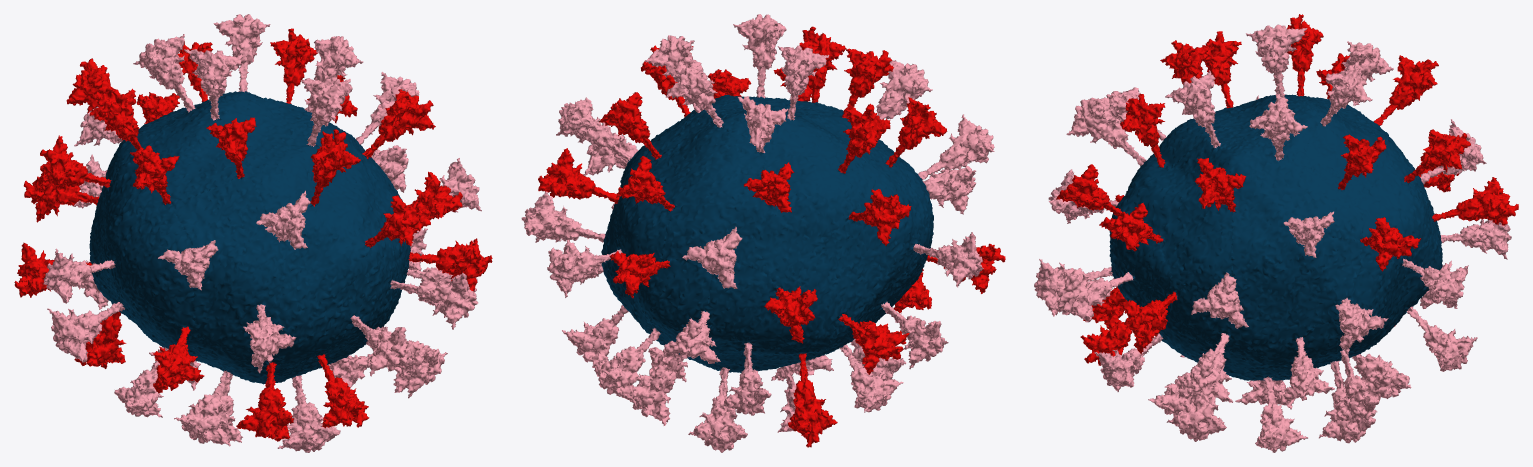
File: sars-cov-2.glb
3 views of the same model, side by side, from view 1: azimuth 30°, elevation 25°; view 2: azimuth 150°, elevation 25°; view 3: azimuth 270°, elevation 25° (orthographic). The views are drawn at different scales.
Visible parts, largest first — view 1: Vírus; view 2: Vírus; view 3: Vírus.
Boxes of the visible parts, box(x1,y1,x2,y2) form: Vírus: box(14, 14, 492, 452); Vírus: box(521, 14, 1005, 452); Vírus: box(1034, 14, 1518, 452).
Bounding box in the file's own units: 12580 × 11318 × 13107.
